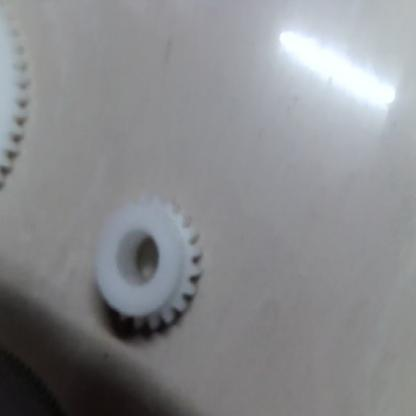FOD: (89, 184, 211, 346)
